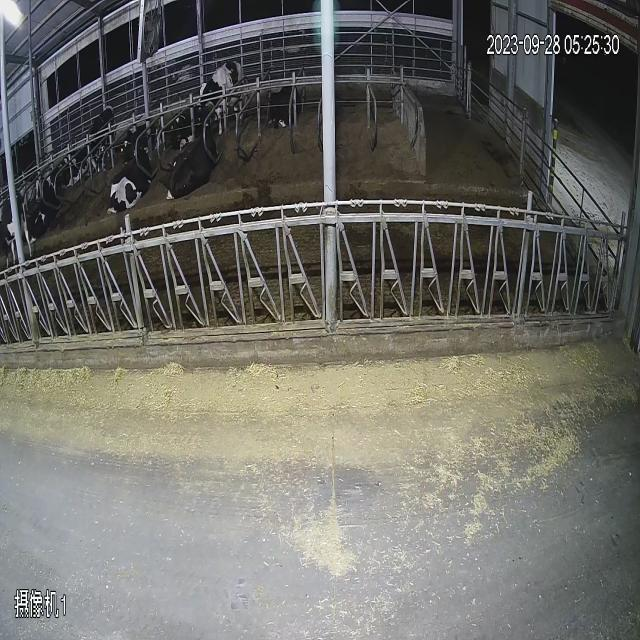lying down: (172, 126, 230, 198), (106, 131, 150, 218)
